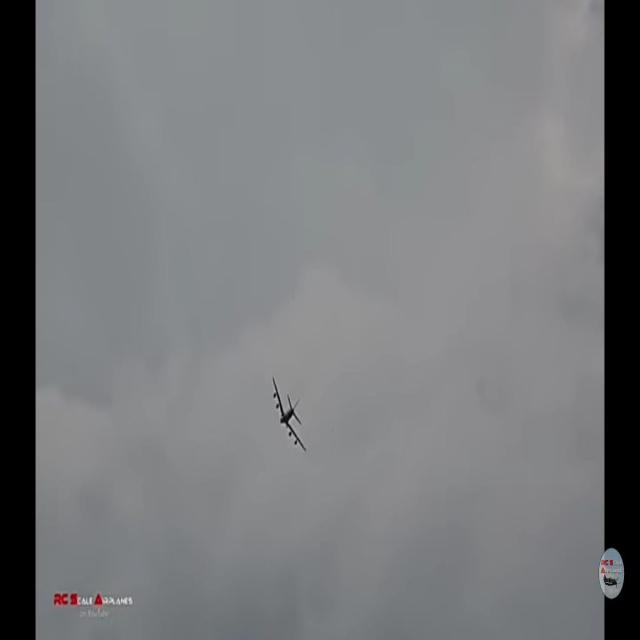iha: (271, 407, 306, 421)
